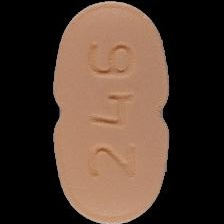0179-0157: (0, 0, 224, 224)
